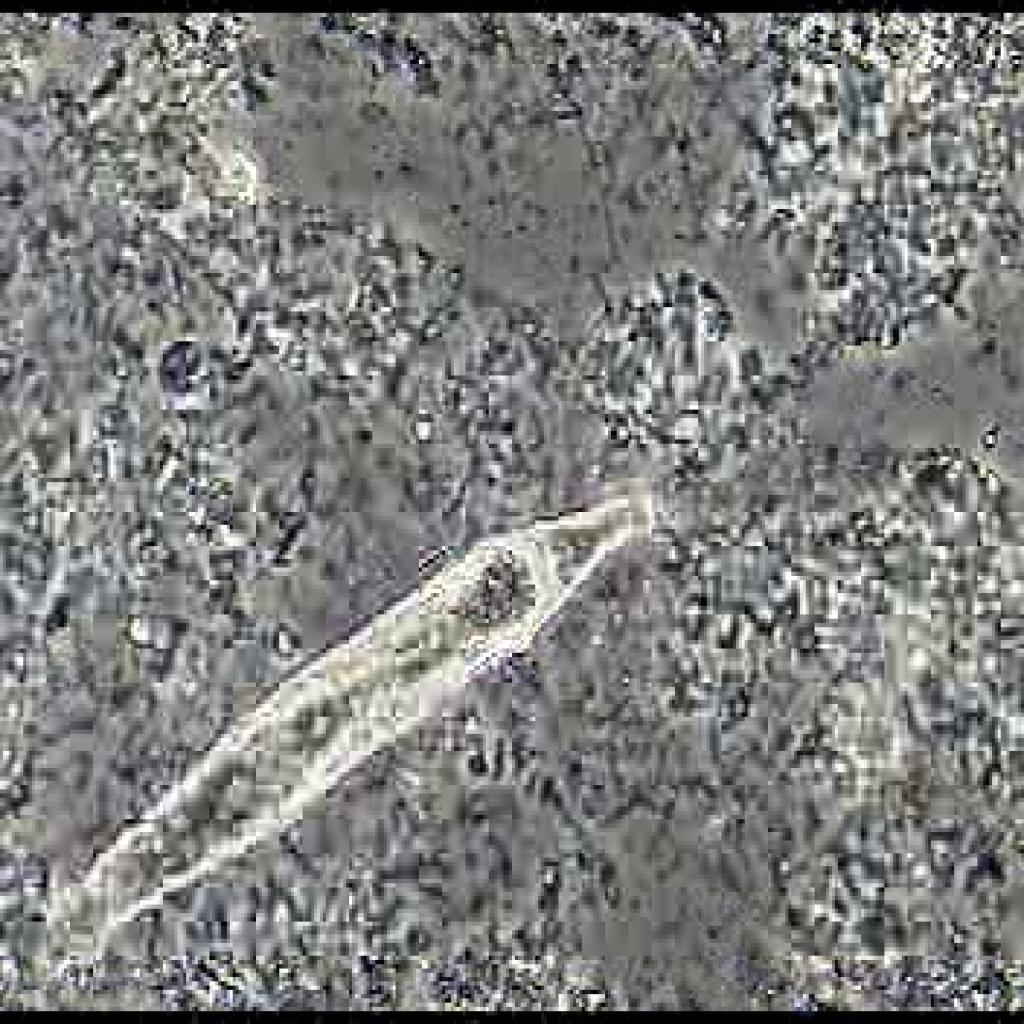Rotatoria: (35, 467, 657, 962)
